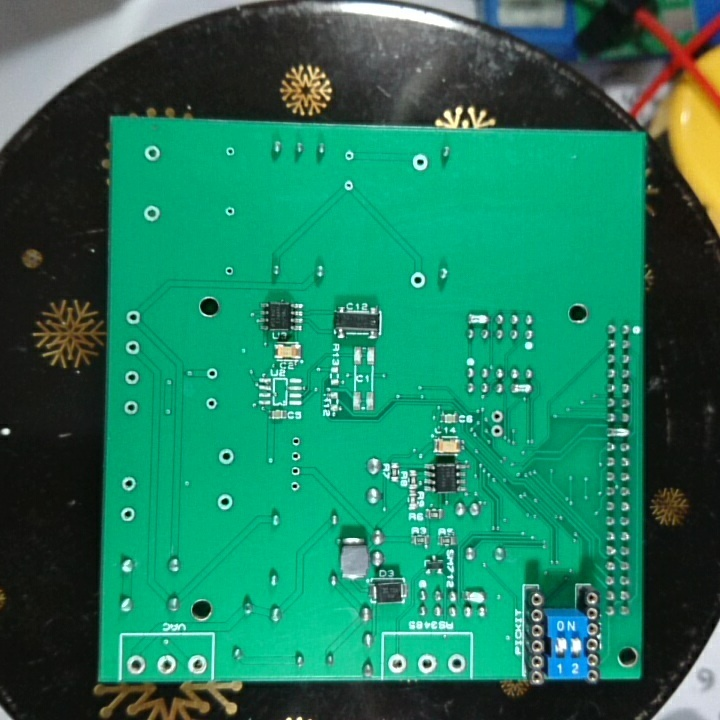F: (154, 651, 179, 675), (183, 652, 209, 675), (416, 651, 439, 674), (121, 367, 144, 389), (142, 143, 163, 166), (122, 336, 143, 359), (446, 652, 467, 675), (141, 203, 163, 224), (410, 152, 430, 174), (125, 655, 147, 675), (387, 652, 407, 674), (120, 399, 140, 420), (216, 446, 236, 467), (118, 505, 141, 523), (215, 492, 235, 512), (407, 271, 428, 289), (123, 308, 141, 328), (119, 475, 139, 493), (204, 392, 219, 414), (204, 365, 221, 383), (287, 432, 304, 450), (287, 475, 302, 494), (488, 423, 504, 440), (341, 146, 356, 164), (288, 449, 304, 465), (341, 177, 358, 192), (221, 204, 238, 219), (289, 463, 304, 479), (222, 263, 236, 280), (489, 409, 506, 423), (224, 145, 238, 160)
P: (460, 586, 490, 606), (466, 310, 490, 329), (509, 380, 534, 398), (605, 425, 634, 440)
